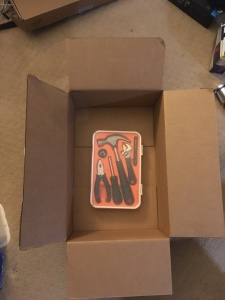innerbox: (67, 91, 170, 239)
outerbox: (21, 36, 223, 297)
product: (91, 128, 141, 206)
